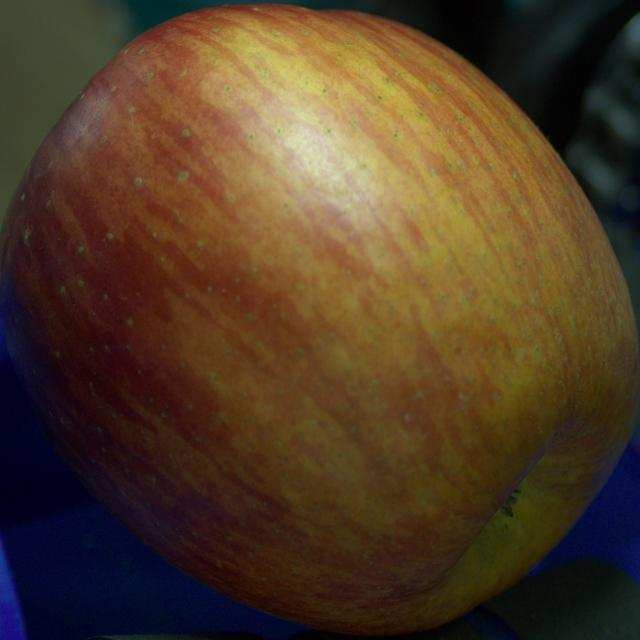apple: (0, 5, 639, 635)
